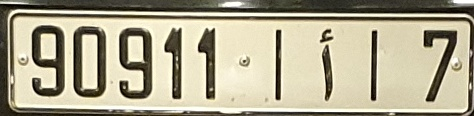0: (72, 26, 107, 98)
1: (162, 26, 184, 100), (195, 27, 217, 100)
7: (421, 29, 459, 103)
9: (117, 26, 154, 100), (31, 24, 65, 97)
a: (316, 26, 338, 102)
